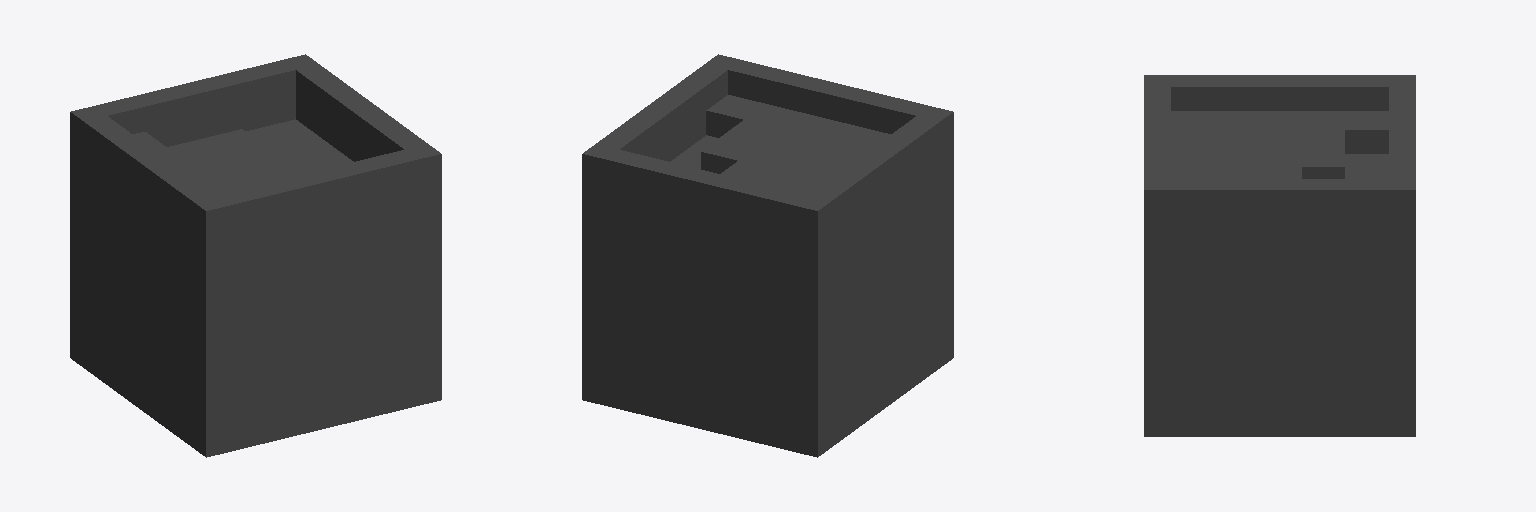
Rendered from Quarry0.obj.
3 views of the same model, side by side, from view 1: azimuth 30°, elevation 25°; view 2: azimuth 150°, elevation 25°; view 3: azimuth 270°, elevation 25° (orthographic).
Parts seen in each view (by area): view 1: Quarry0; view 2: Quarry0; view 3: Quarry0.
Part boxes in pixels (x1,y1,x2,y2): Quarry0: (70, 54, 441, 457); Quarry0: (582, 54, 953, 457); Quarry0: (1144, 75, 1415, 436).
Size of the model in its own units: 10 by 10 by 10.